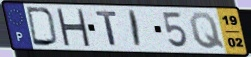5: (161, 11, 189, 49)
D: (25, 5, 60, 48)
H: (55, 7, 92, 48)
I: (129, 9, 143, 49)
Q: (188, 11, 227, 50)
T: (94, 10, 120, 47)
